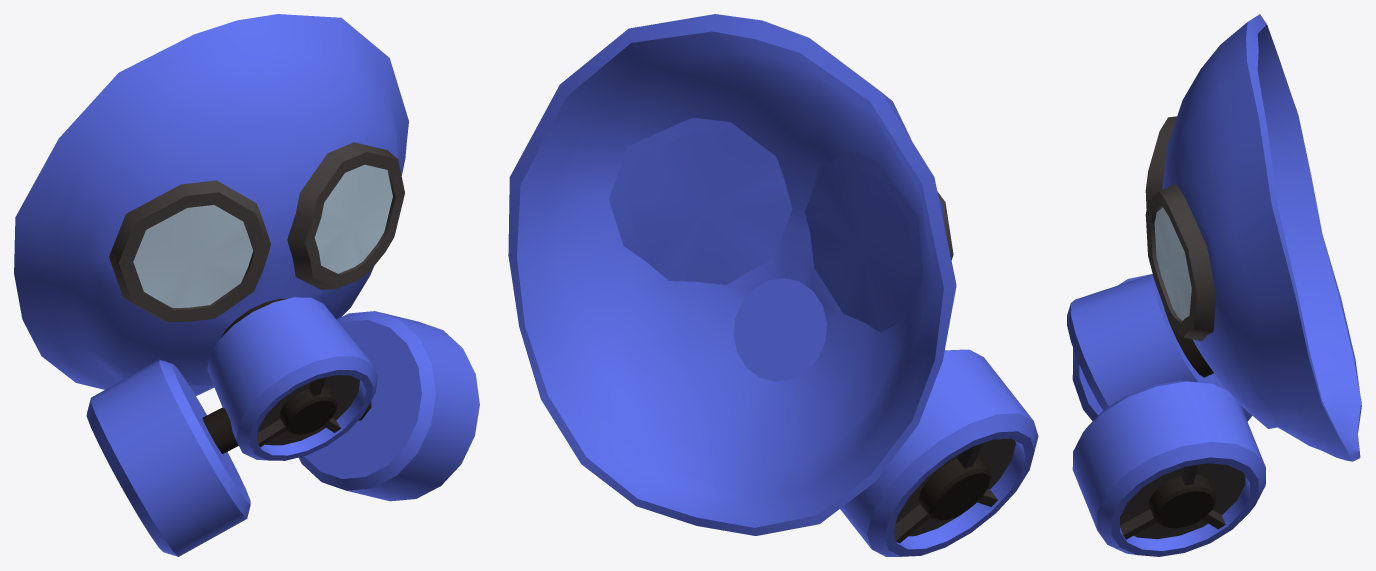
File: Mask_01_03.fbx
3 renders of one model, left to right at view 1: azimuth 30°, elevation 25°; view 2: azimuth 150°, elevation 25°; view 3: azimuth 270°, elevation 25°, orthographic. The views are drawn at different scales.
Visible parts, largest first — view 1: Mask_01_03; view 2: Mask_01_03; view 3: Mask_01_03.
Part boxes in pixels (x1,y1,x2,y2): Mask_01_03: [14, 14, 479, 556]; Mask_01_03: [508, 14, 1038, 556]; Mask_01_03: [1067, 14, 1361, 556].
Bounding box in the file's own units: 31.91 × 36.57 × 20.93.
